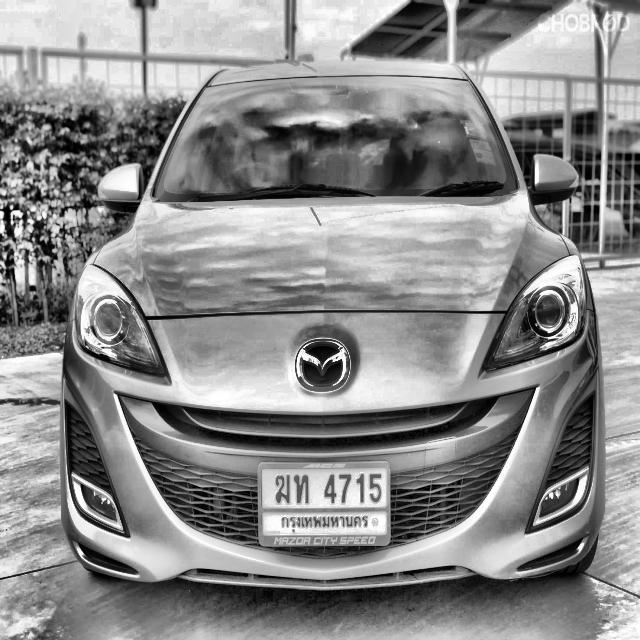license-plate: (256, 456, 394, 550)
